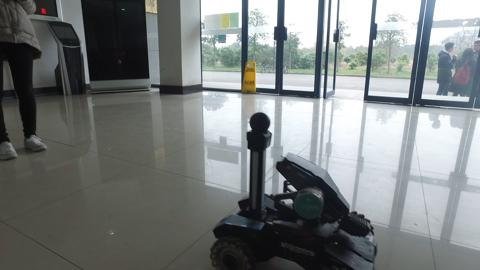chariot: (207, 108, 388, 270)
